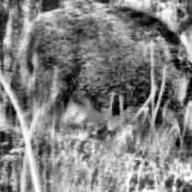boar: (29, 0, 192, 148)
